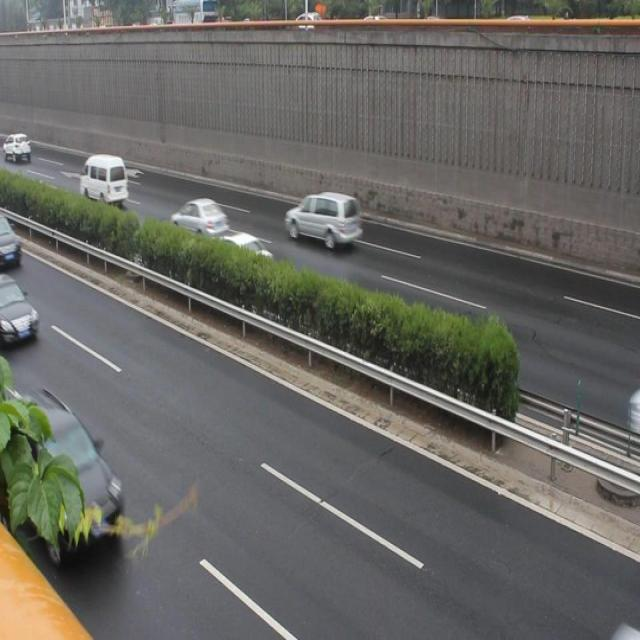car: (12, 380, 126, 549), (0, 276, 40, 346), (216, 226, 272, 274), (170, 196, 231, 240)
truck: (284, 184, 361, 249), (79, 153, 126, 211)
